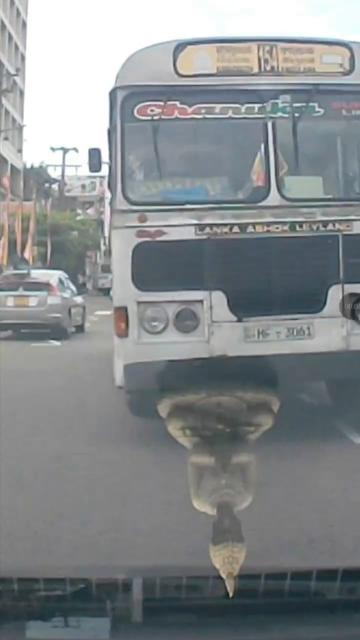number plate: (240, 321, 322, 345)
